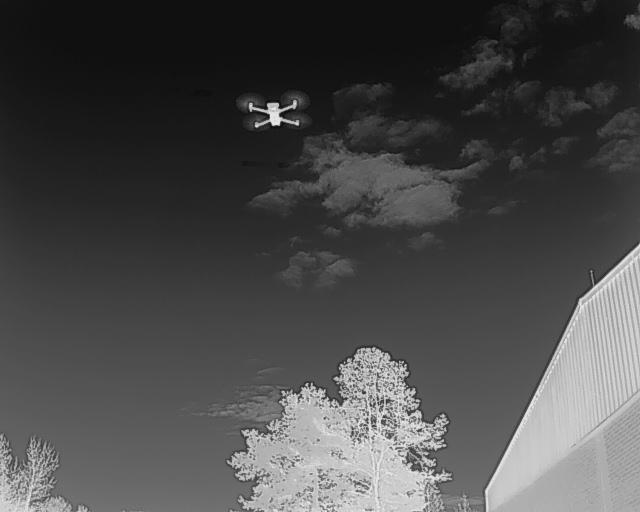drone: (233, 88, 320, 139)
